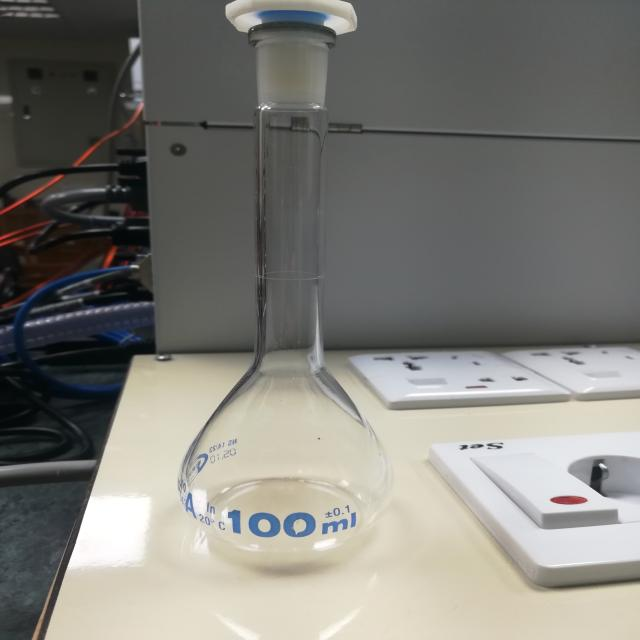Volumetric_Flask: (160, 0, 459, 581)
